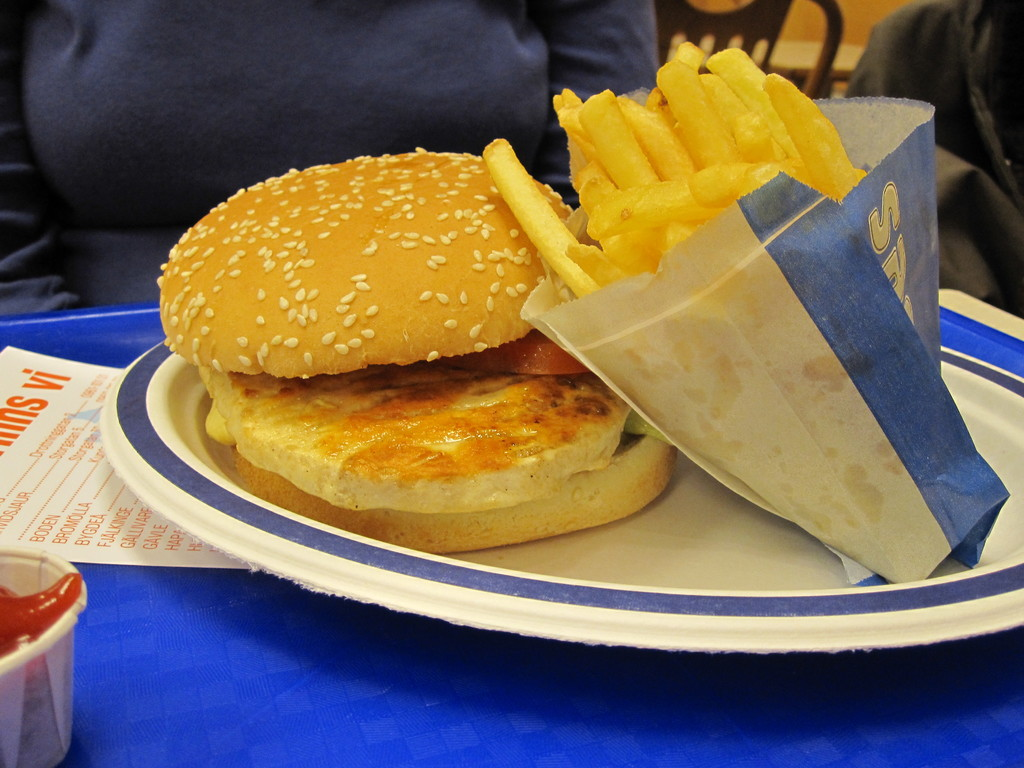French fries: (541, 37, 872, 278), (485, 139, 613, 310)
